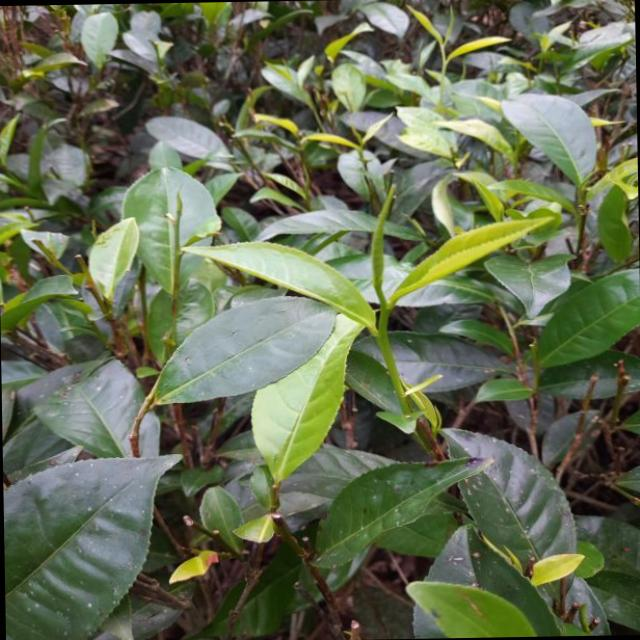Stem: (376, 330, 387, 342)
